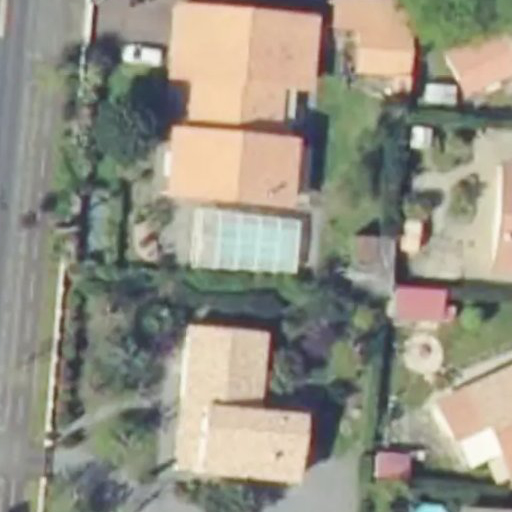pool: (188, 208, 306, 277)
